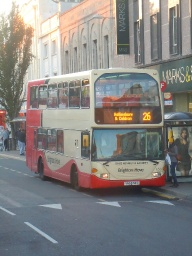bus: (27, 68, 168, 196)
